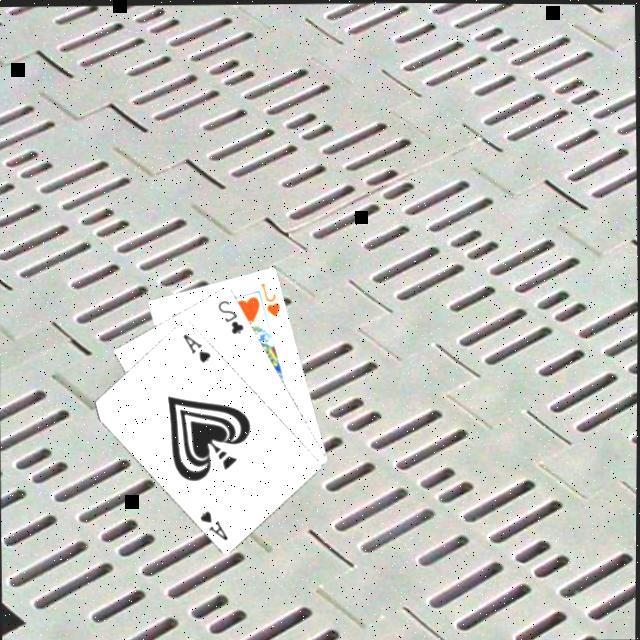2C: (215, 293, 248, 335)
AS: (180, 326, 215, 363), (197, 504, 232, 541)
JH: (258, 277, 284, 317)
